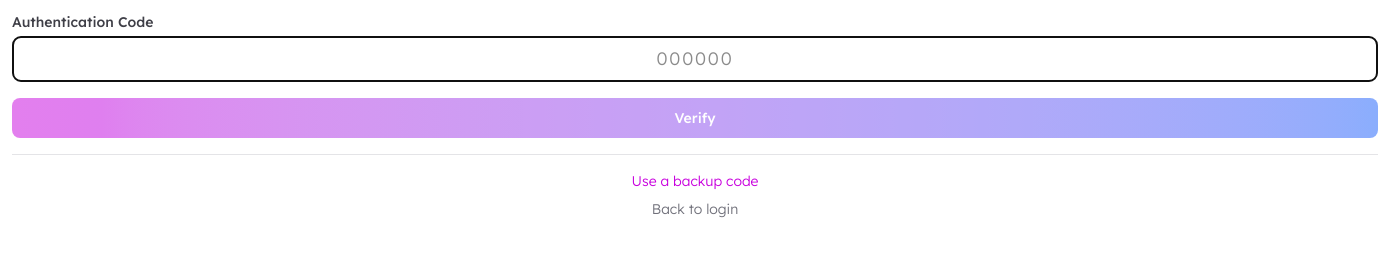
it: TwoFactorForm › submits TOTP code
This screenshot has width=1390, height=271.
Step 1. Type "123456" into the field with test id "totp-input" → (695, 59), box [12,36,1378,82]
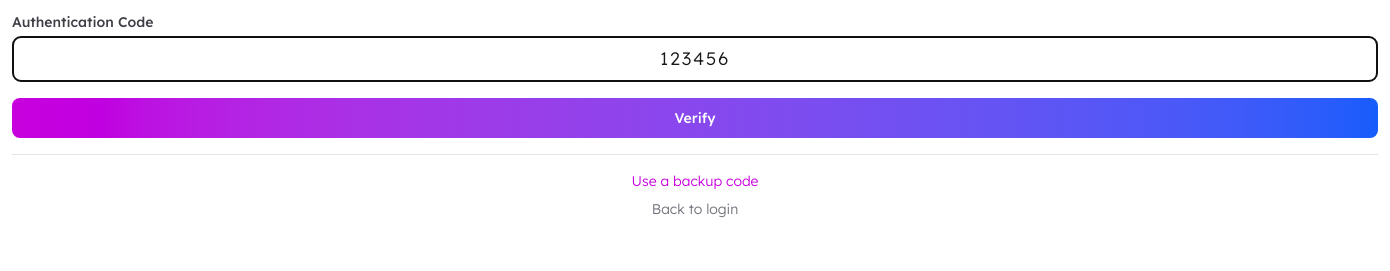
Step 2. Click the button with test id "totp-submit" → (695, 118), box [12,98,1378,138]
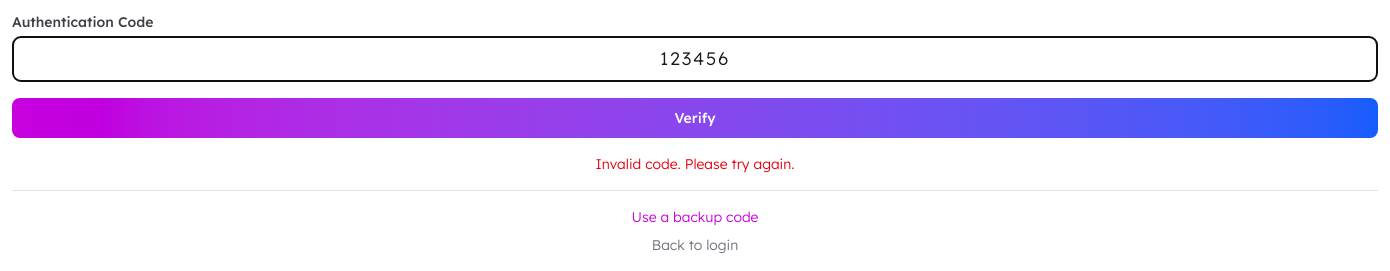
Result: the text with test id "2fa-error" shows "Invalid code" at [596,155,794,173]
